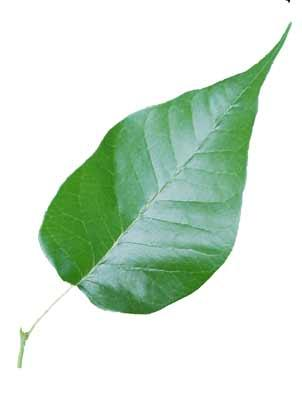Healthy Citrus: (39, 43, 284, 329)
